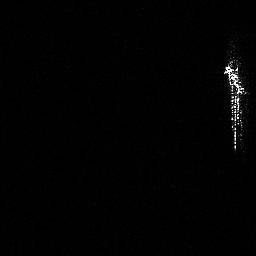ship: (220, 53, 251, 154)
